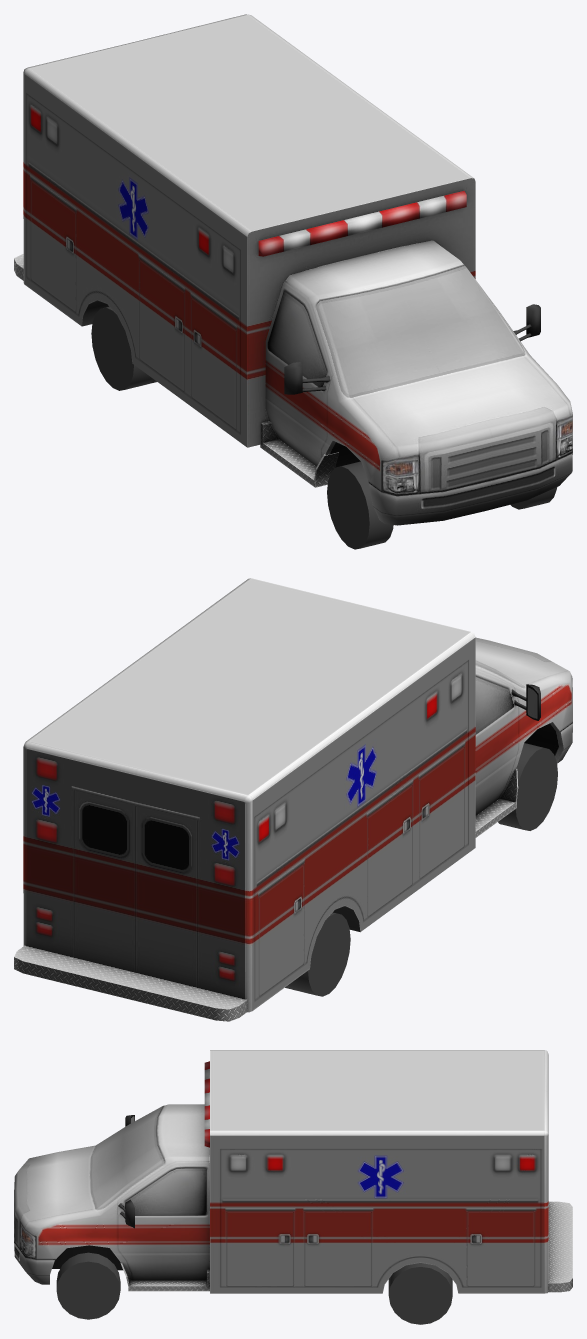
The model's file is gz-ambulance.glb.
3 renders of one model, top to bottom at view 1: azimuth 30°, elevation 25°; view 2: azimuth 150°, elevation 25°; view 3: azimuth 270°, elevation 25°, orthographic. The views are drawn at different scales.
Visible parts, largest first — view 1: object 1, wheel_fr, wheel_rr; view 2: object 1, wheel_fr, wheel_rr; view 3: object 1, wheel_fl, wheel_rl.
Part boxes in pixels (x1,y1,x2,y2): object 1: [14, 14, 572, 525]; wheel_fr: [327, 461, 393, 549]; wheel_rr: [91, 306, 156, 390]; object 1: [14, 578, 572, 1021]; wheel_fr: [498, 743, 557, 830]; wheel_rr: [285, 912, 350, 996]; object 1: [14, 1050, 572, 1293]; wheel_fl: [56, 1252, 120, 1319]; wheel_rl: [388, 1263, 452, 1324].
Size of the model in its own units: 2.97 by 2.89 by 7.54.
2 materials, 1 textured.
